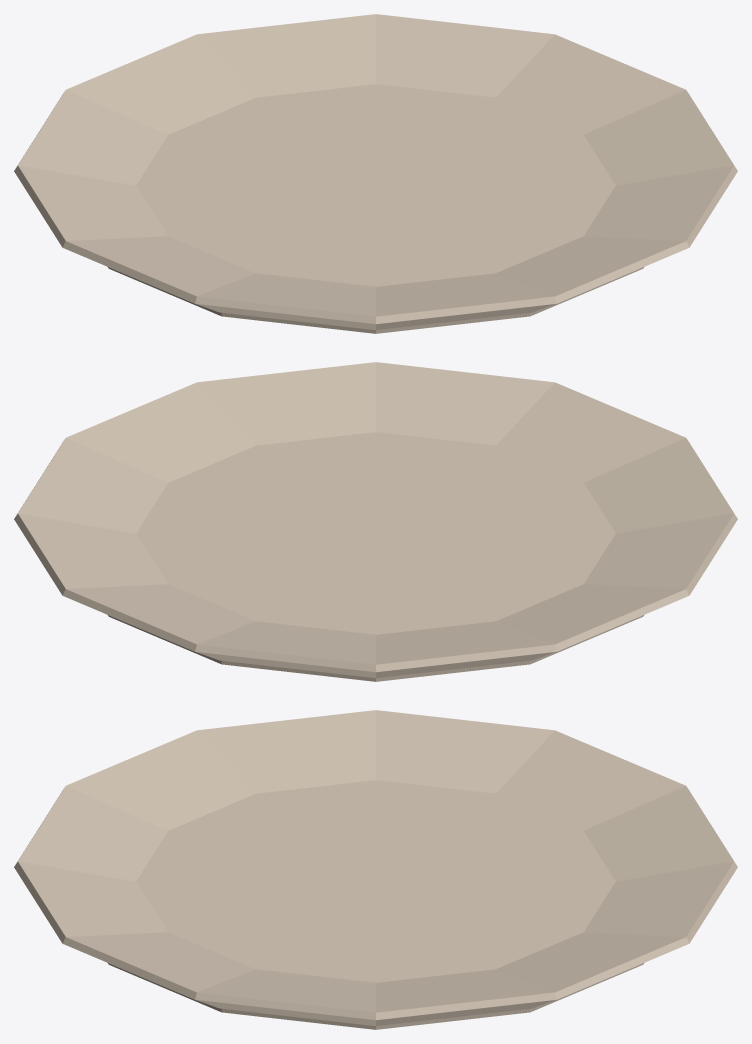
Rendered from Plate.fbx.
The picture shows the model from 3 angles, top to bottom: view 1: azimuth 30°, elevation 25°; view 2: azimuth 150°, elevation 25°; view 3: azimuth 270°, elevation 25°; orthographic projection.
Visible parts, largest first — view 1: Plate; view 2: Plate; view 3: Plate.
Boxes of the visible parts, <box> form: Plate: <box>14,14,737,333</box>; Plate: <box>14,362,737,681</box>; Plate: <box>14,710,737,1029</box>.
Size of the model in its own units: 17.48 by 1.01 by 17.48.
